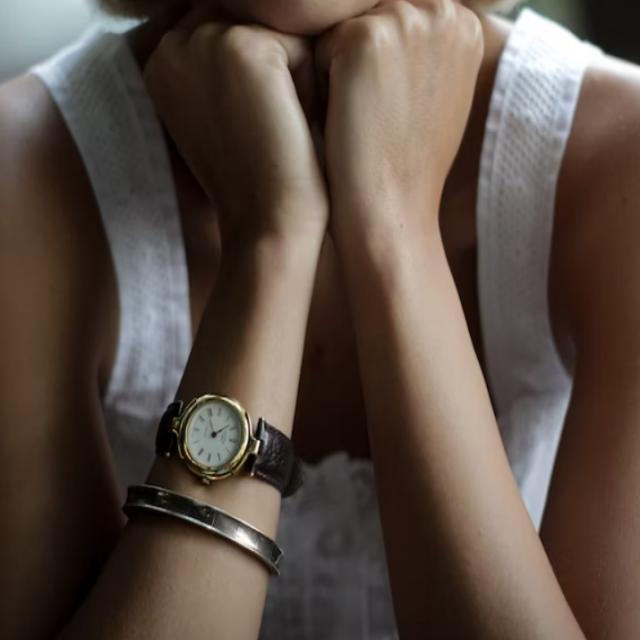Watch: (152, 389, 298, 496)
